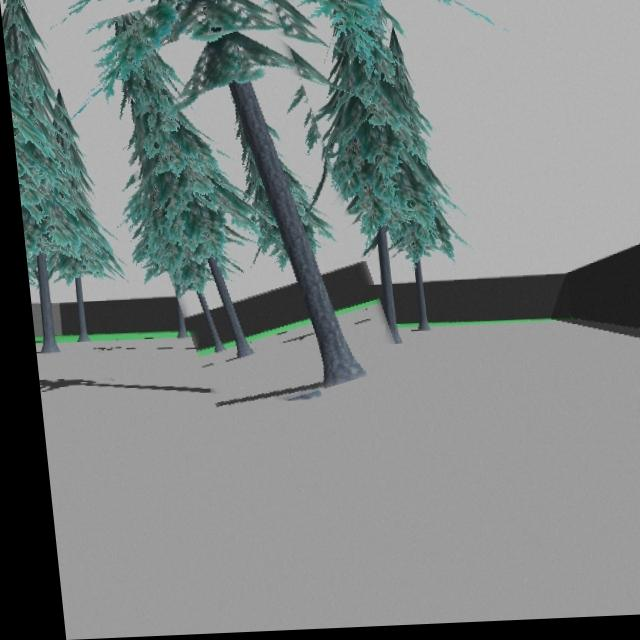tree: (96, 0, 356, 388)
